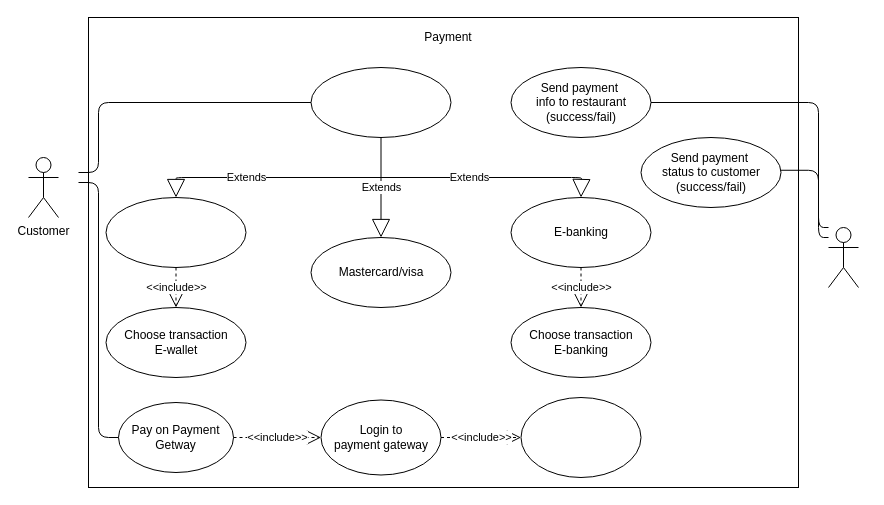
This 884x505 diagram has some shape labels left out. Here are the shapes that lost their labels. From the top down, the box of each, then its label:
(310, 66, 451, 138): Choose Mode of payment
(105, 196, 246, 268): E-wallet
(828, 226, 858, 288): Payment gateway
(520, 396, 641, 478): Confirm payment
